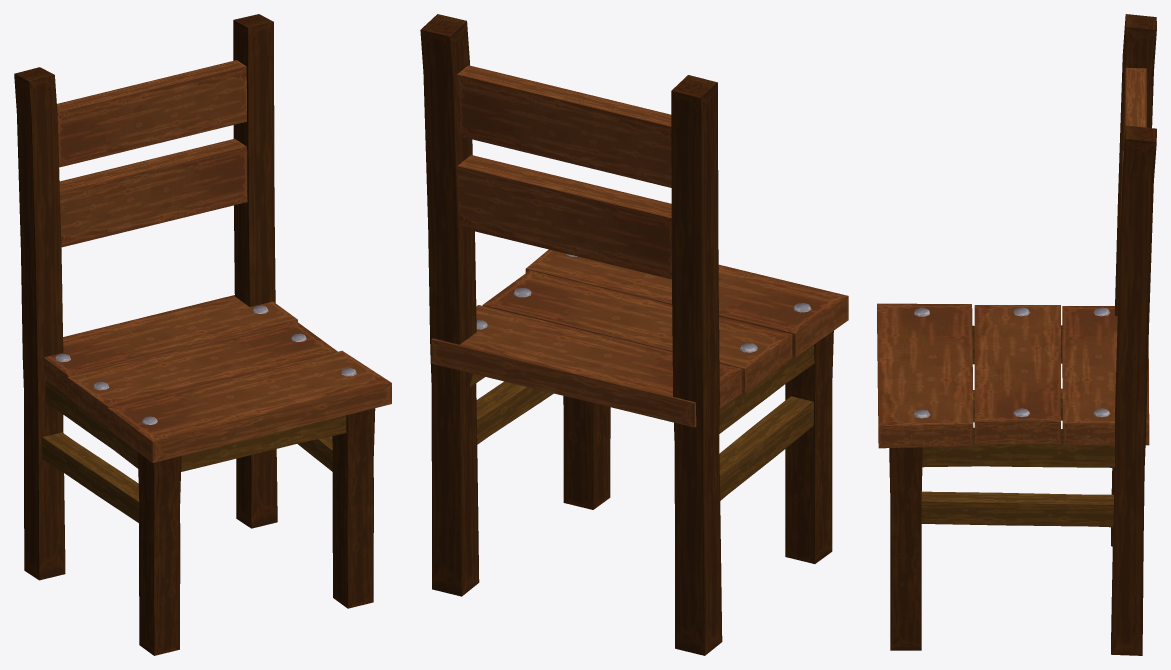
File: quaternius-fantasy-props-chair-1.glb
The picture shows the model from 3 angles, left to right: view 1: azimuth 30°, elevation 25°; view 2: azimuth 150°, elevation 25°; view 3: azimuth 270°, elevation 25°; orthographic projection. The views are drawn at different scales.
Visible parts, largest first — view 1: Chair_1; view 2: Chair_1; view 3: Chair_1.
Boxes of the visible parts, x1=… form: Chair_1: x1=14, y1=14, x2=391, y2=655; Chair_1: x1=420, y1=14, x2=848, y2=655; Chair_1: x1=877, y1=14, x2=1156, y2=655.
Size of the model in its own units: 0.491 by 0.95 by 0.4643.
Materials: 2 (2 with a texture image).
